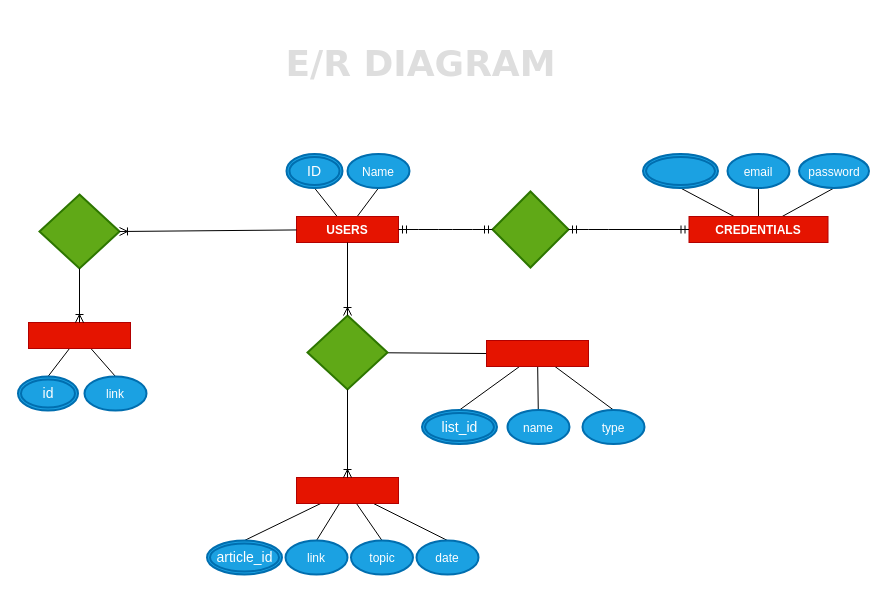
Image size: 887x592. Some labels were removed from this diagram. Here are the shapes that lost their labels. From the top down, the centre of each, then its label:
At pixel 680 170: "cred_id".
At pixel 79 231: "FOLLOWS".
At pixel 530 229: "LOGIN".
At pixel 79 335: "FEEDS".
At pixel 347 352: "SAVES".
At pixel 537 353: "LISTS".
At pixel 347 490: "ARTICLES".
